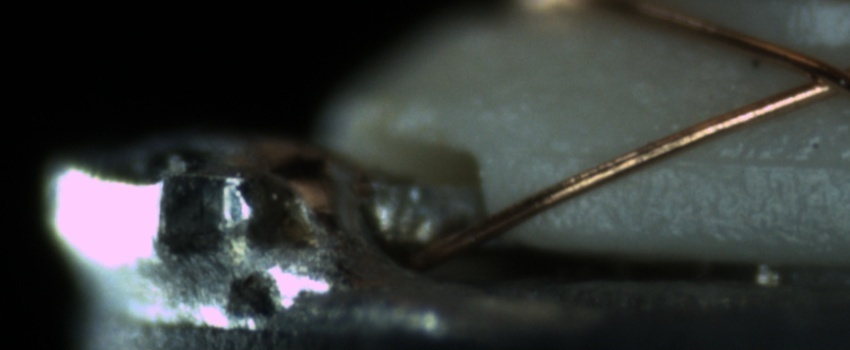CL: (777, 48, 850, 105)
DL: (534, 125, 848, 190)
